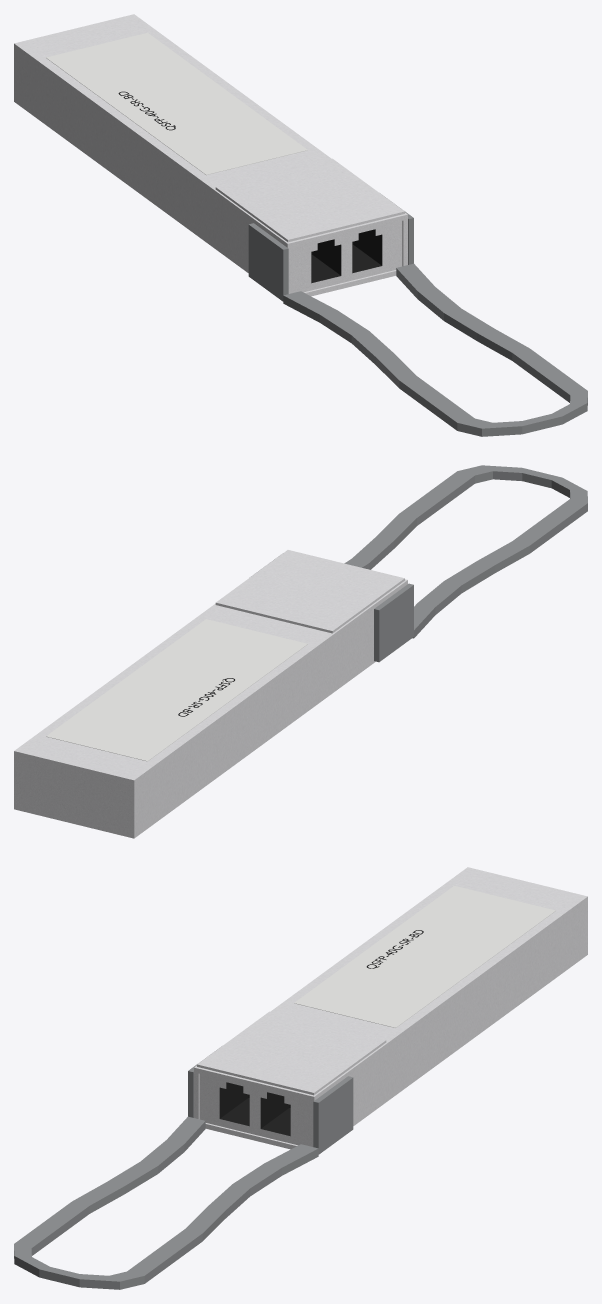
The model's file is QSFP-40G-SR-BD.glb.
3 views of the same model, one above another, from view 1: azimuth 30°, elevation 25°; view 2: azimuth 150°, elevation 25°; view 3: azimuth 330°, elevation 25° (orthographic).
Visible parts, largest first — view 1: QSFP-40G-SR-BD_Housing, QSFP-40G-SR-BD_Labels, QSFP-40G-SR-BD_Tab; view 2: QSFP-40G-SR-BD_Housing, QSFP-40G-SR-BD_Labels, QSFP-40G-SR-BD_Tab; view 3: QSFP-40G-SR-BD_Housing, QSFP-40G-SR-BD_Labels, QSFP-40G-SR-BD_Tab.
Boxes of the visible parts, x1,y1,x2,y2 form: QSFP-40G-SR-BD_Housing: (14,14,407,296); QSFP-40G-SR-BD_Labels: (46,32,307,174); QSFP-40G-SR-BD_Tab: (248,193,587,436); QSFP-40G-SR-BD_Housing: (14,550,407,838); QSFP-40G-SR-BD_Labels: (46,619,307,761); QSFP-40G-SR-BD_Tab: (249,465,587,662); QSFP-40G-SR-BD_Housing: (194,867,587,1149); QSFP-40G-SR-BD_Labels: (294,885,555,1027); QSFP-40G-SR-BD_Tab: (14,1046,353,1289).
Bounding box in the file's own units: 0.02 × 0.00885 × 0.1238.
4 materials, 1 textured.
